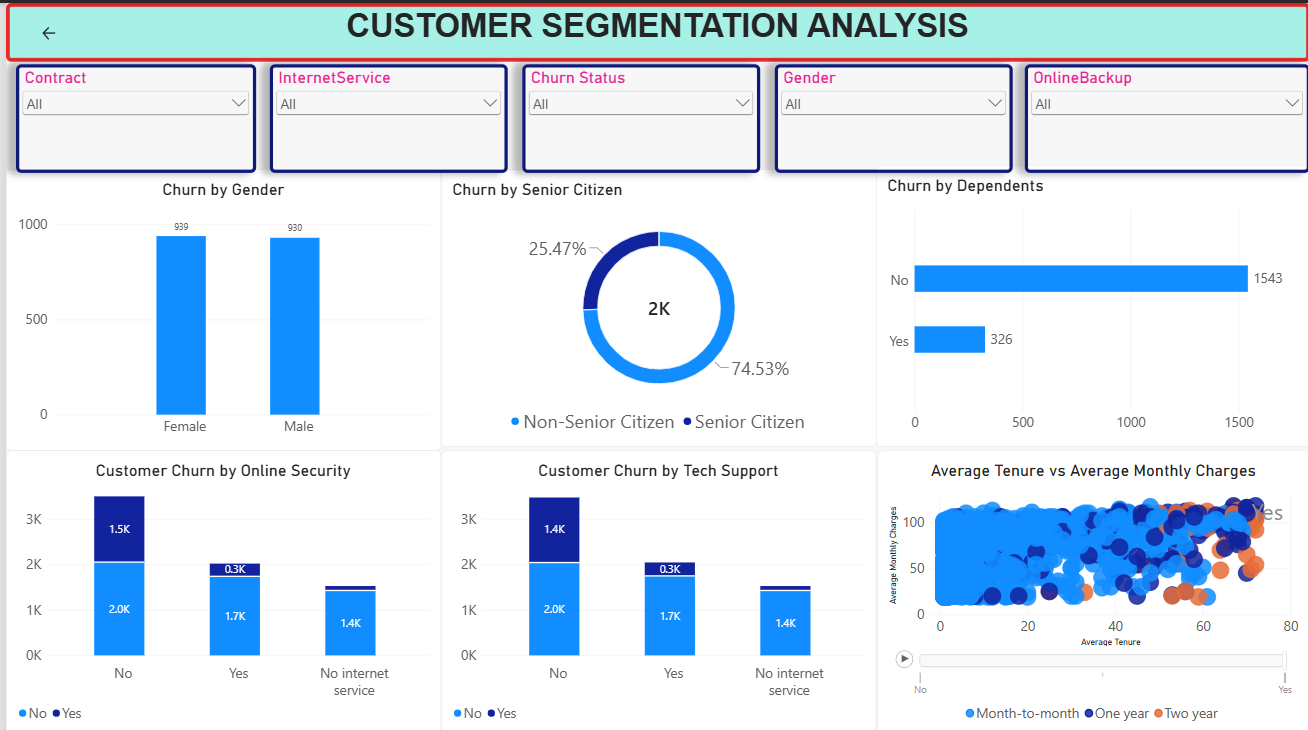

What the dashboard file says about the page in this screenshot:
{"tool":"powerbi","page":{"name":"Customer Segmentation","canvas":[1920,1080],"ordinal":1},"visuals":[{"type":"clusteredColumnChart","title":"Churn by Gender","fields":{"Category":["01 Churn-Dataset.gender"],"Y":["01 Churn-Dataset.Churned Customers"]},"box":[0,244.8,640.5,414.1],"z":0},{"type":"donutChart","title":"Churn by Senior Citizen","fields":{"Category":["01 Churn-Dataset.Senior Citizen Group"],"Y":["01 Churn-Dataset.Churned Customers"]},"box":[640.5,244.8,642.3,408.6],"z":1000},{"type":"clusteredBarChart","title":"Churn by Dependents","fields":{"Category":["01 Churn-Dataset.Dependents"],"Y":["01 Churn-Dataset.Churned Customers"]},"box":[1281,239.3,638.7,414.1],"z":2000},{"type":"textbox","box":[0,0,1919.6,86.5],"z":3000},{"type":"columnChart","title":"Customer Churn by Online Security","fields":{"Category":["01 Churn-Dataset.OnlineSecurity"],"Series":["01 Churn-Dataset.Churn"],"Y":["01 Churn-Dataset.Total Customers"]},"box":[0,658.9,640.5,421.5],"z":4000},{"type":"columnChart","title":"Customer Churn by Tech Support","fields":{"Category":["01 Churn-Dataset.TechSupport"],"Series":["01 Churn-Dataset.Churn"],"Y":["01 Churn-Dataset.Total Customers"]},"box":[640.5,658.9,640.5,421.5],"z":5000},{"type":"scatterChart","title":"Average Tenure vs Average Monthly Charges","fields":{"Category":["01 Churn-Dataset.customerID"],"Play":["01 Churn-Dataset.Churn"],"Series":["01 Churn-Dataset.Contract"],"Size":["01 Churn-Dataset.Customer Count"],"X":["01 Churn-Dataset.Average Tenure"],"Y":["01 Churn-Dataset.Average Monthly Charges"]},"box":[1282.8,658.9,636.8,421.5],"z":6000},{"type":"slicer","fields":{"Values":["01 Churn-Dataset.gender"]},"box":[1131.9,90.2,350,160.1],"z":7000},{"type":"slicer","fields":{"Values":["01 Churn-Dataset.Contract"]},"box":[14.7,90.2,353.4,160.1],"z":8000},{"type":"slicer","fields":{"Values":["01 Churn-Dataset.InternetService"]},"box":[388.3,90.2,350,160.1],"z":9000},{"type":"slicer","fields":{"Values":["01 Churn-Dataset.Churn"]},"box":[760.1,90.2,350,160],"z":10000},{"type":"slicer","fields":{"Values":["01 Churn-Dataset.OnlineBackup"]},"box":[1500,90.2,419.6,160.1],"z":10001},{"type":"actionButton","box":[0,3.7,127,82.8],"z":10002}]}

Visuals, with their boxes in screenshot pixels (x1, y1, x2, y2), scaled from the page's 1920x1080 canvas onto the 1308x730 screenshot:
"Churn by Gender" clusteredColumnChart: Rect(0, 165, 436, 445)
"Churn by Senior Citizen" donutChart: Rect(436, 165, 874, 442)
"Churn by Dependents" clusteredBarChart: Rect(873, 162, 1307, 442)
textbox: Rect(0, 0, 1307, 58)
"Customer Churn by Online Security" columnChart: Rect(0, 445, 436, 729)
"Customer Churn by Tech Support" columnChart: Rect(436, 445, 873, 729)
"Average Tenure vs Average Monthly Charges" scatterChart: Rect(874, 445, 1307, 729)
slicer - 01 Churn-Dataset.gender: Rect(771, 61, 1010, 169)
slicer - 01 Churn-Dataset.Contract: Rect(10, 61, 251, 169)
slicer - 01 Churn-Dataset.InternetService: Rect(265, 61, 503, 169)
slicer - 01 Churn-Dataset.Churn: Rect(518, 61, 756, 169)
slicer - 01 Churn-Dataset.OnlineBackup: Rect(1022, 61, 1307, 169)
actionButton: Rect(0, 3, 87, 58)
